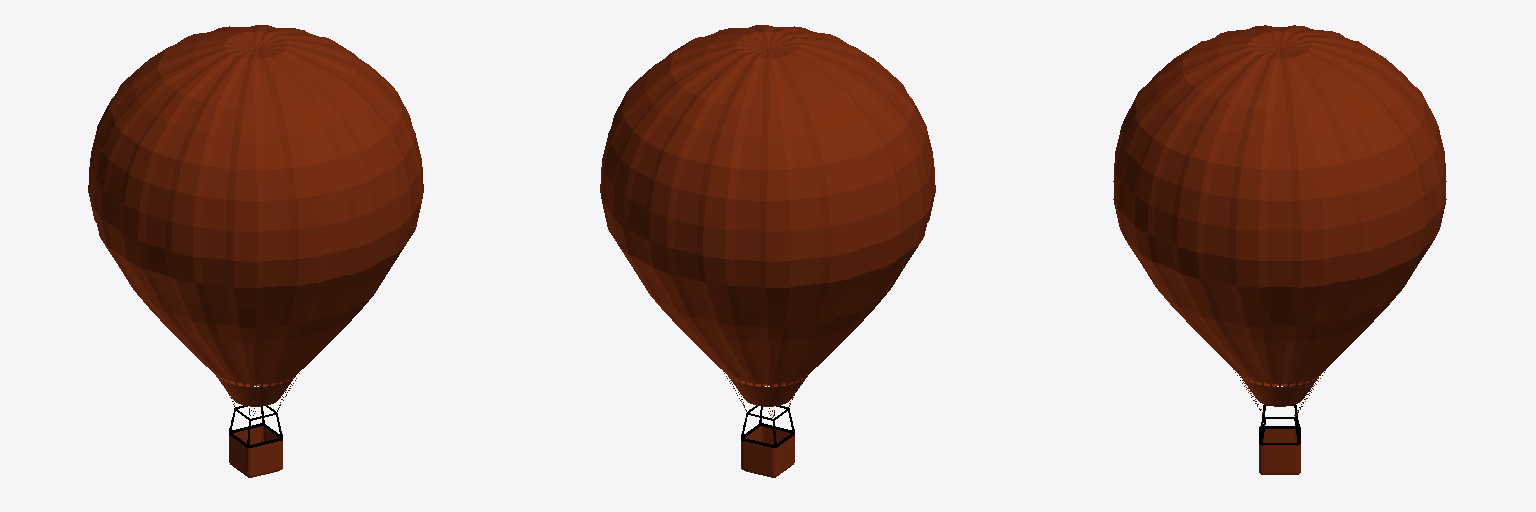
The model's file is Jugador2.obj.
3 views of the same model, side by side, from view 1: azimuth 30°, elevation 25°; view 2: azimuth 150°, elevation 25°; view 3: azimuth 270°, elevation 25° (orthographic).
Visible parts, largest first — view 1: Object009; view 2: Object009; view 3: Object009.
Boxes of the visible parts, box(x1,y1,x2,y2) form: Object009: box(88, 25, 423, 477); Object009: box(600, 25, 935, 477); Object009: box(1113, 25, 1446, 474).
Bounding box in the file's own units: 31.88 × 44.66 × 31.88.